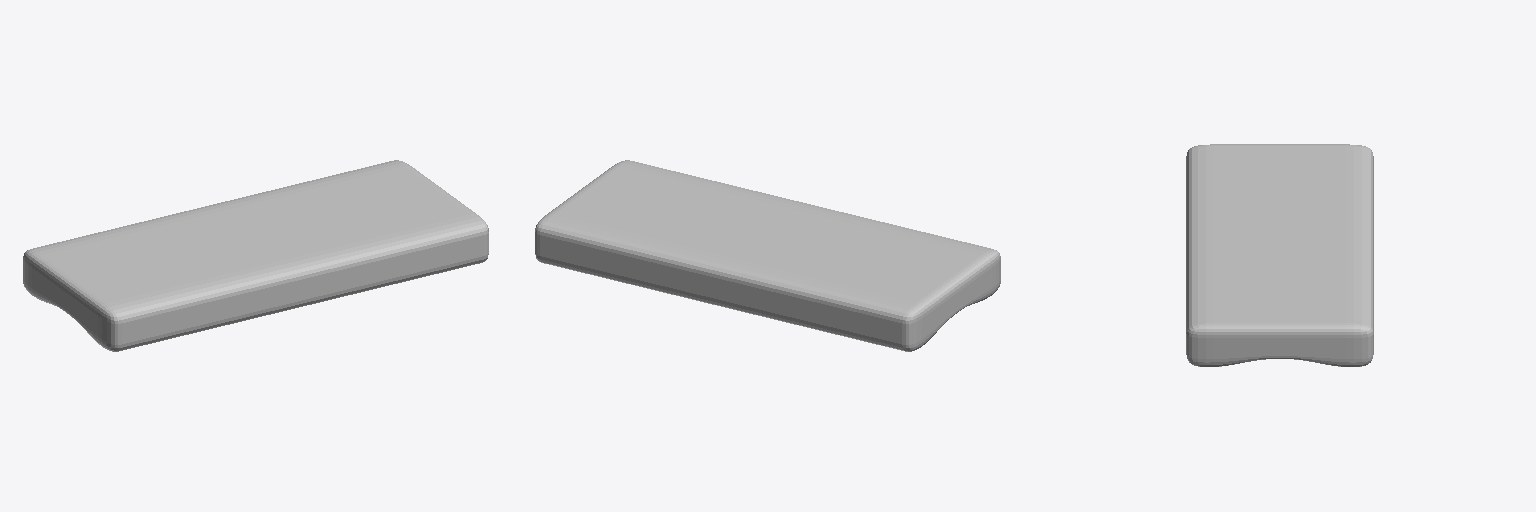
The model's file is Cadera.obj.
The picture shows the model from 3 angles: view 1: azimuth 30°, elevation 25°; view 2: azimuth 150°, elevation 25°; view 3: azimuth 270°, elevation 25°; orthographic projection.
Visible parts, largest first — view 1: Cadera; view 2: Cadera; view 3: Cadera.
Part boxes in pixels (left/top/right/bottom): Cadera: left=23, top=160, right=488, bottom=351; Cadera: left=535, top=160, right=1000, bottom=351; Cadera: left=1186, top=144, right=1373, bottom=366.
Size of the model in its own units: 24.21 by 2.57 by 10.27.